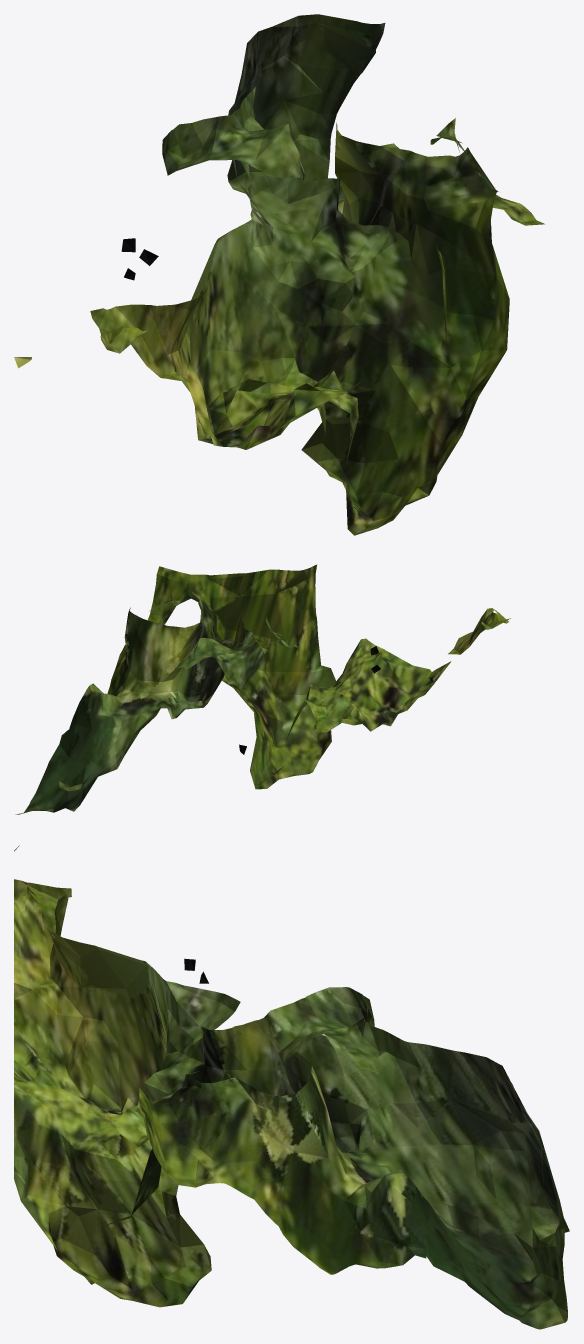
3 views of the same model, one above another, from view 1: azimuth 30°, elevation 25°; view 2: azimuth 150°, elevation 25°; view 3: azimuth 270°, elevation 25° (orthographic). The views are drawn at different scales.
Size of the model in its own units: 2.95 by 1.44 by 2.59.
3 materials, 3 textured.
